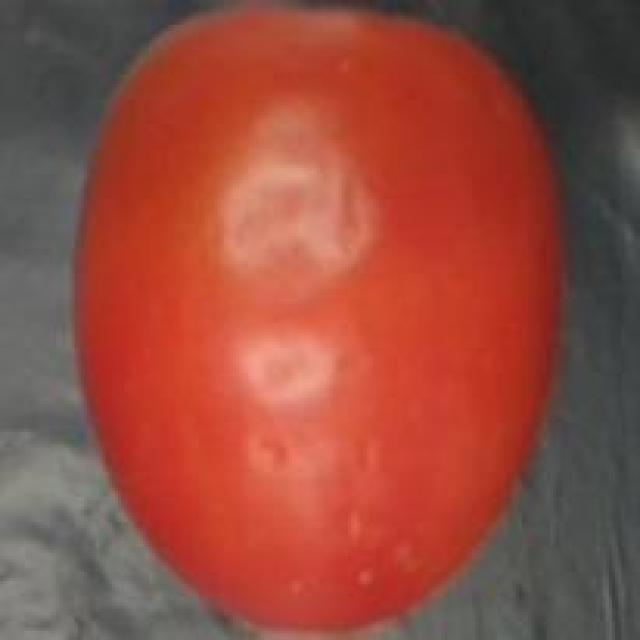ripe tomato: (62, 3, 578, 640)
